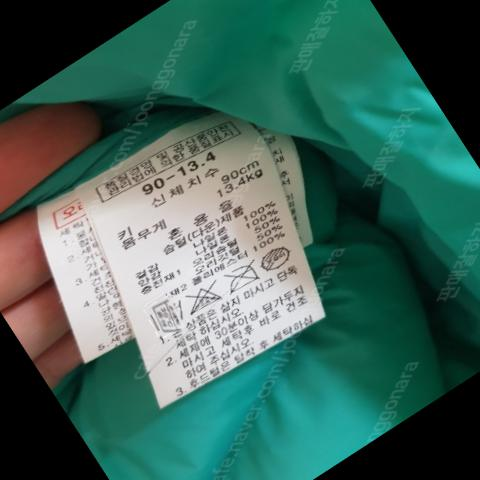DN_bleach: (190, 278, 223, 315)
DN_iron: (229, 260, 260, 294)
hand_wash: (148, 294, 186, 337)
line_dry_in_shade: (259, 239, 295, 273)
